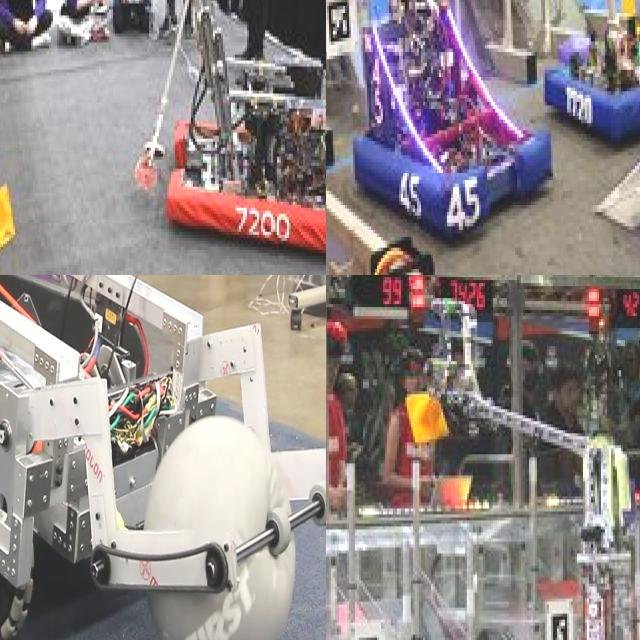FRC-Robots: (403, 300, 640, 640), (0, 275, 201, 640), (326, 0, 575, 275), (105, 0, 326, 275), (535, 0, 640, 275)
